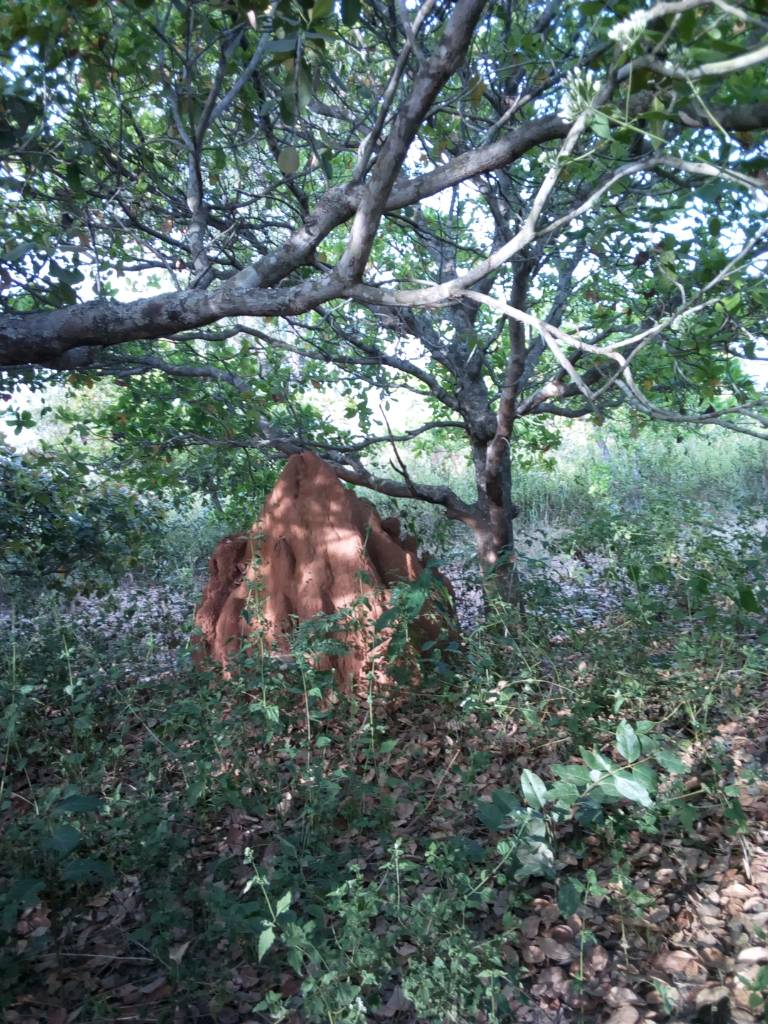Termites: (268, 449, 394, 653)
